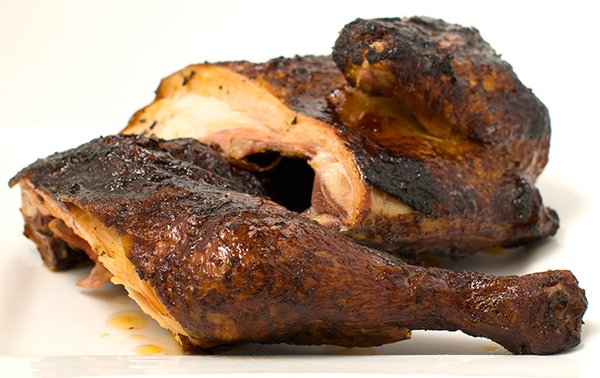soup: (4, 57, 574, 352)
